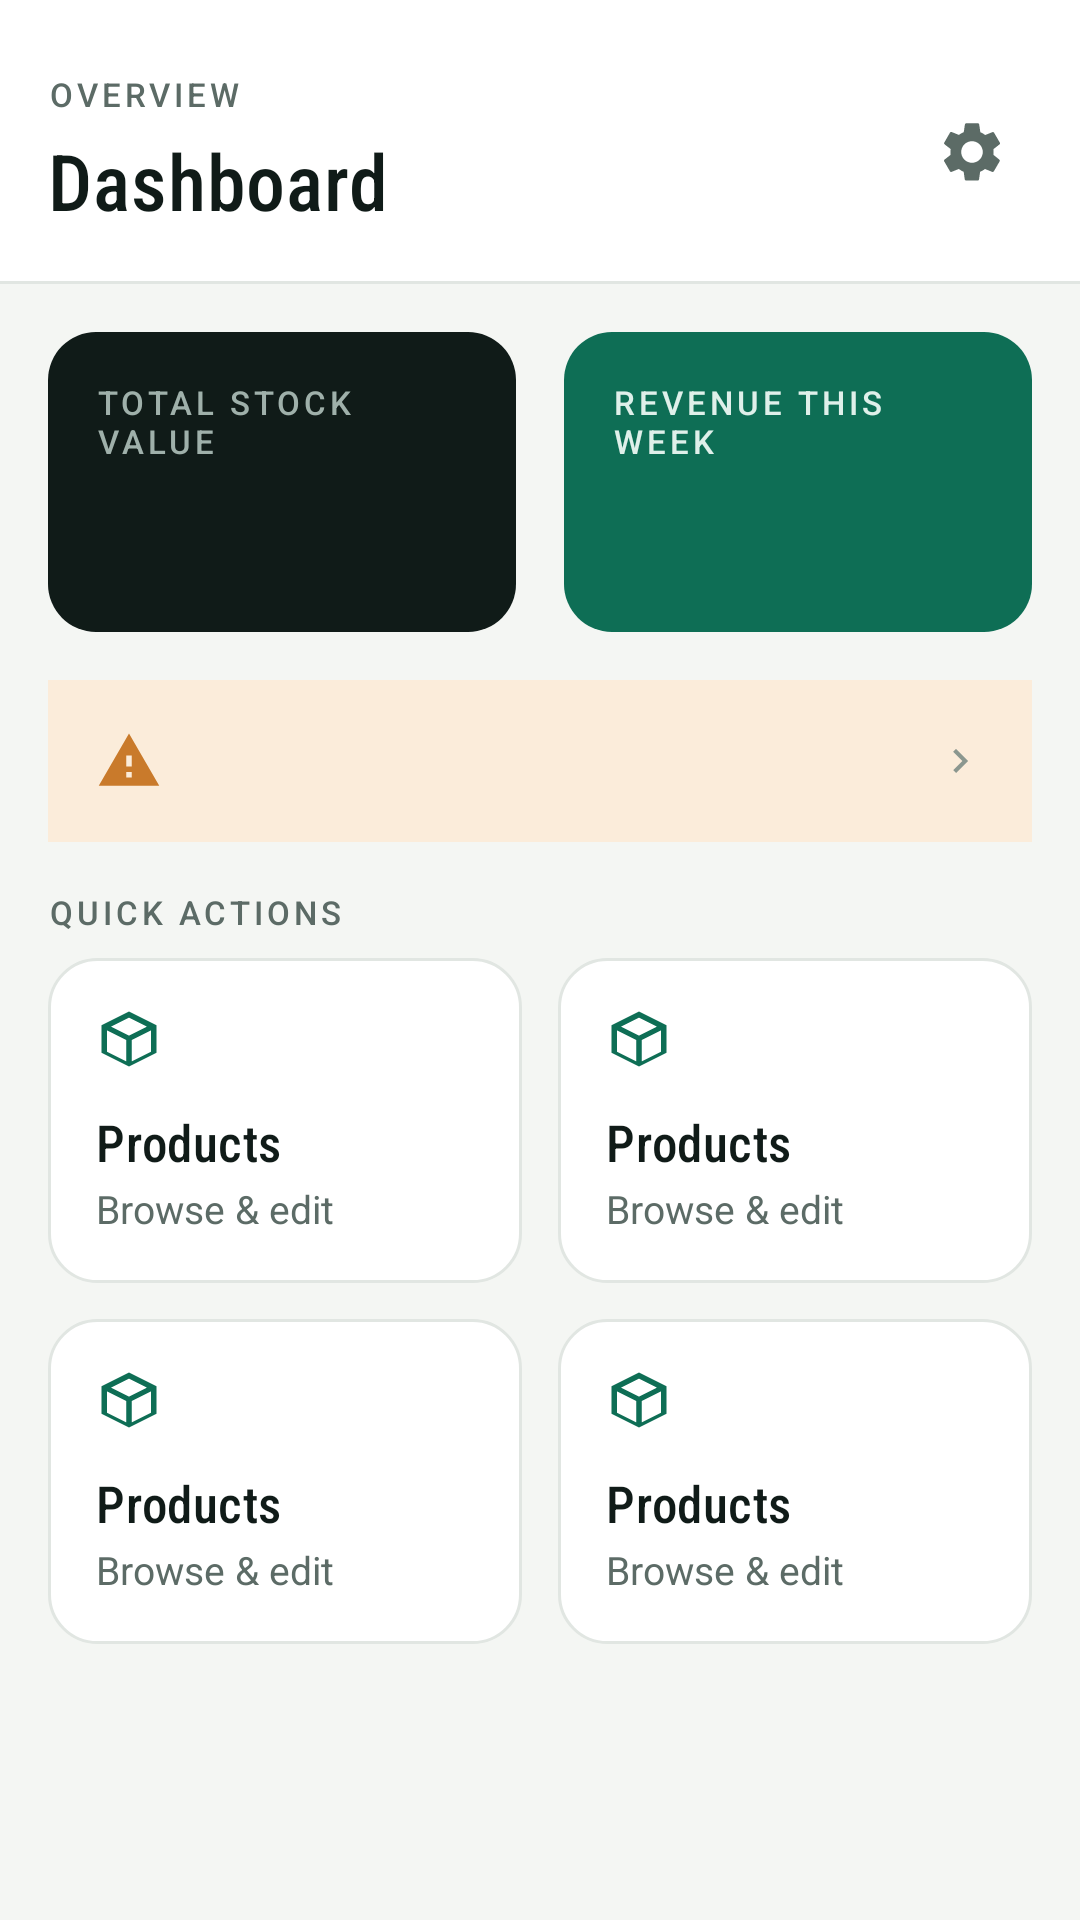

Screen size 1080w x 1920h. Icon name, then its box in pixels as (x1, y1, x2, y2):
chevron right: (953, 749, 968, 773)
Low stock warning: (99, 734, 159, 786)
Settings: (944, 123, 1000, 181)
